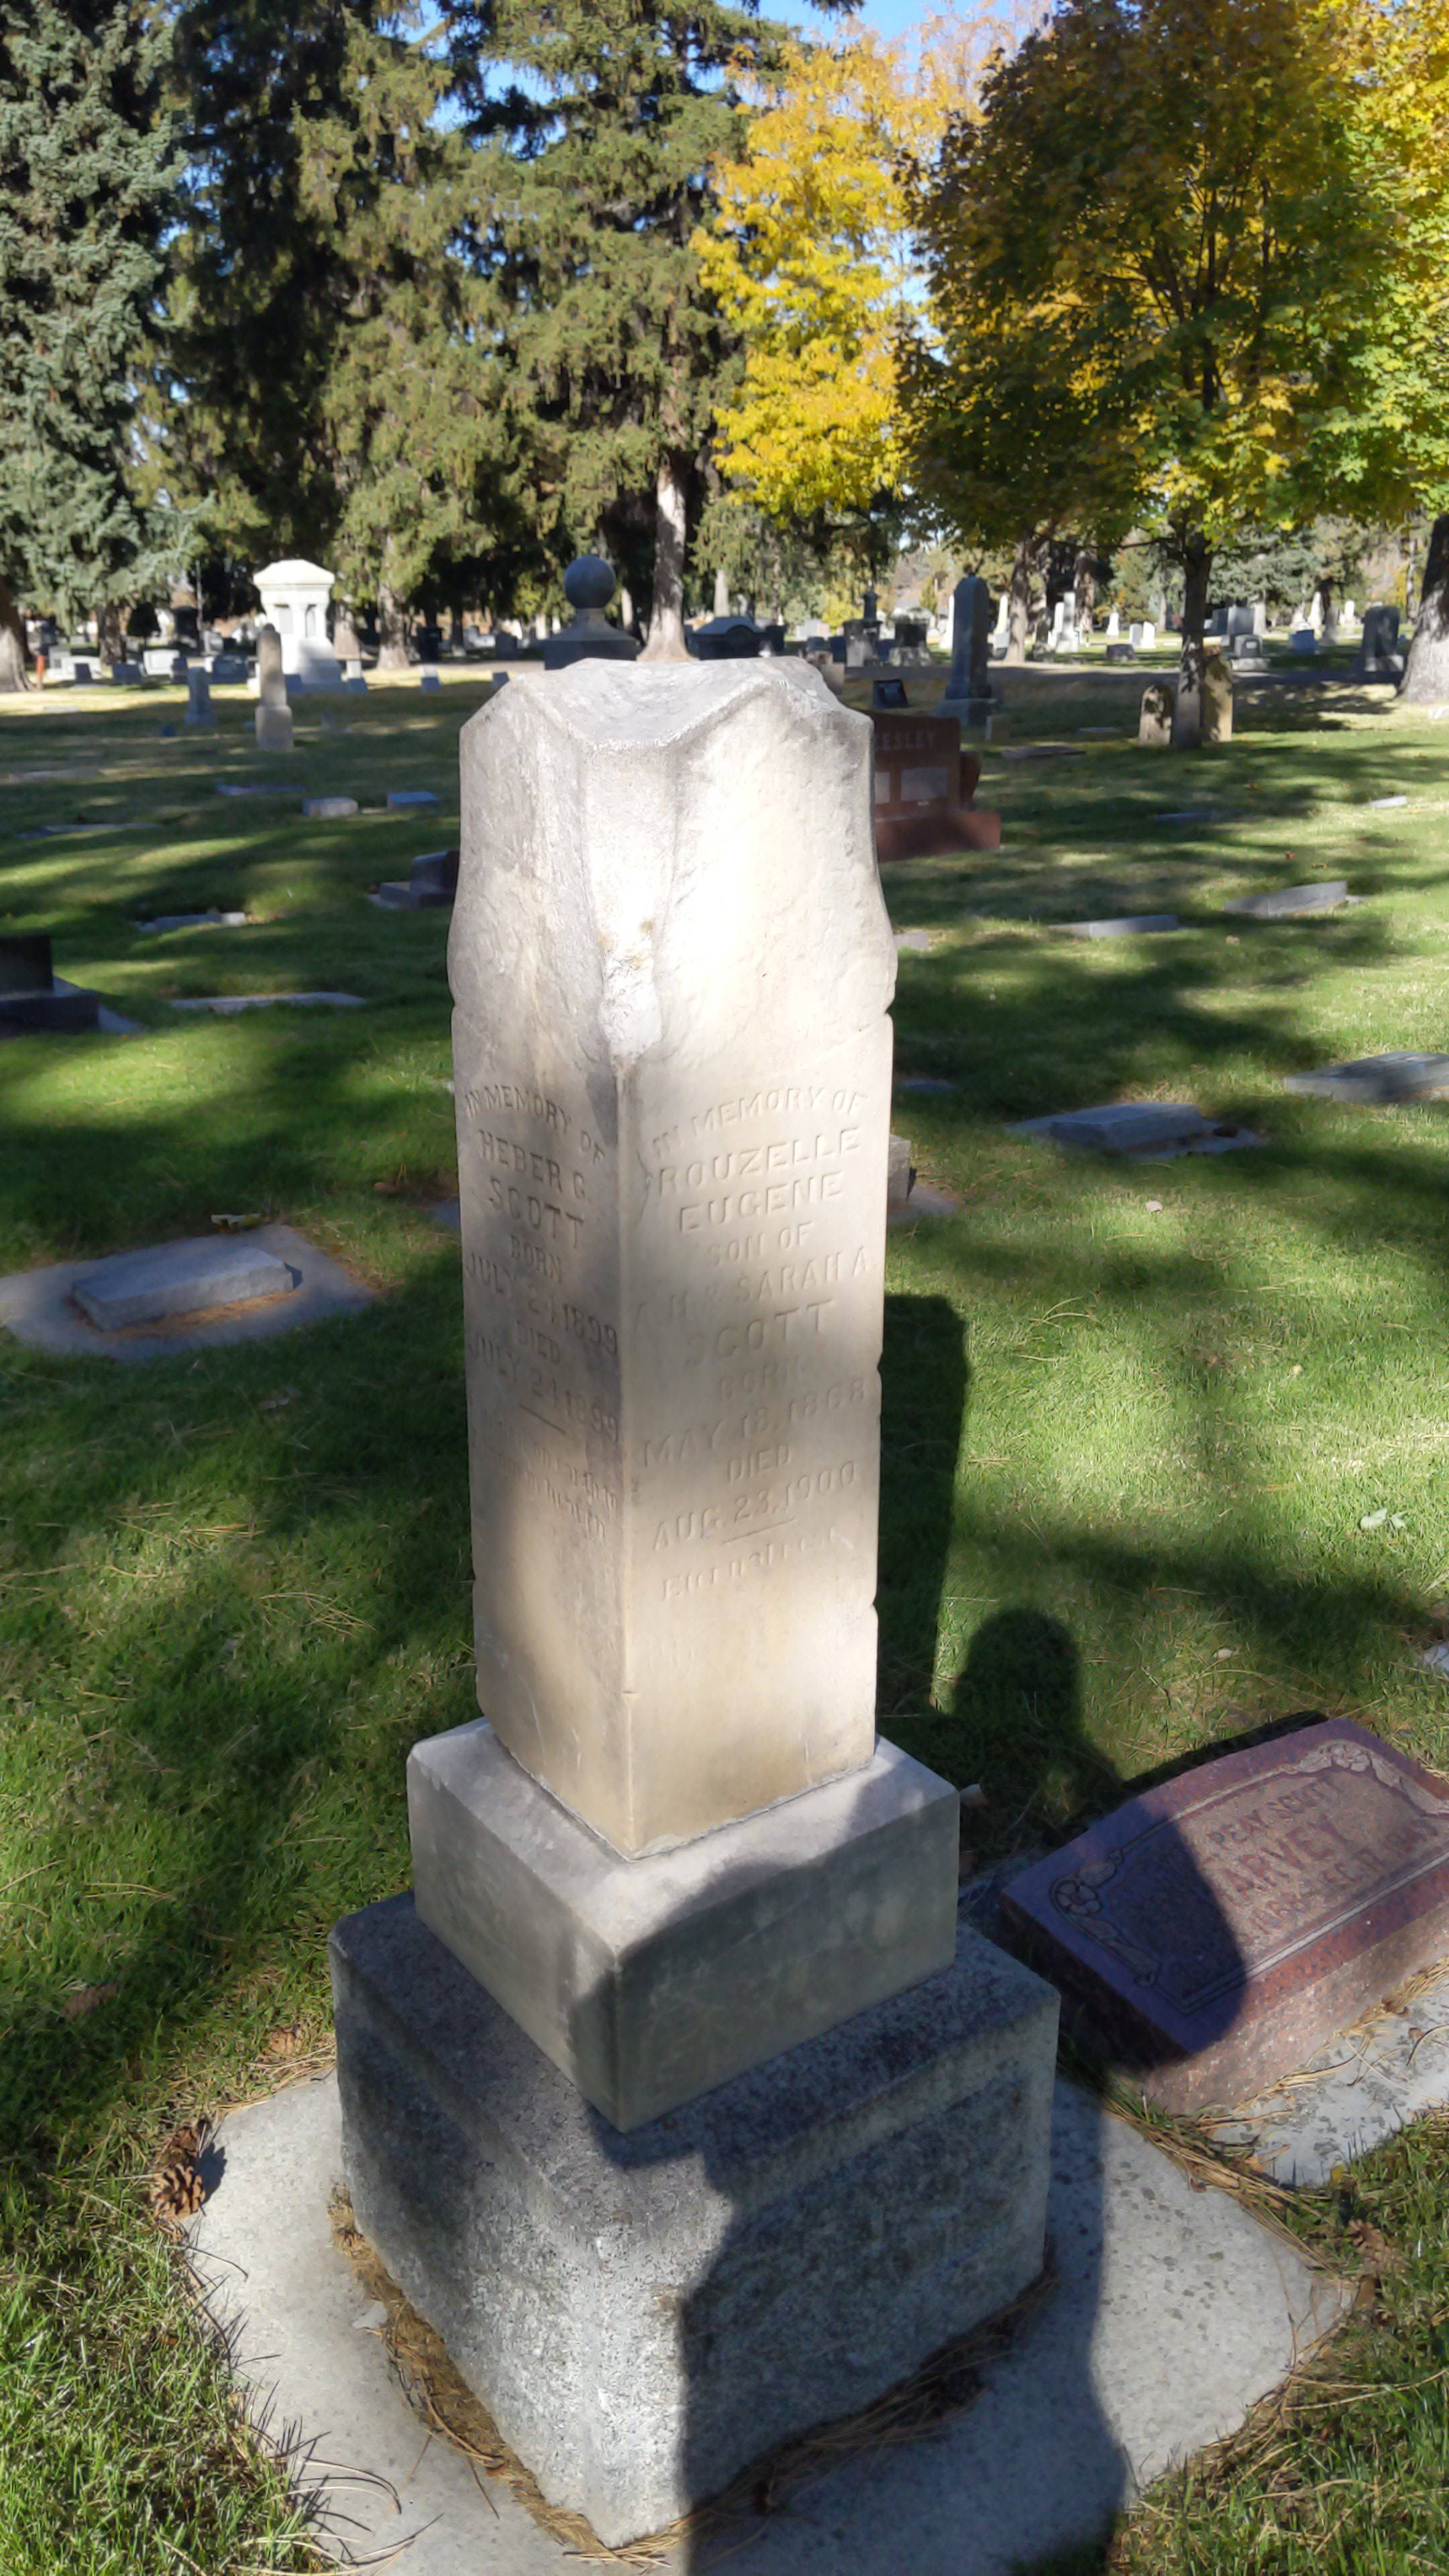obelisk: (410, 653, 952, 2132)
